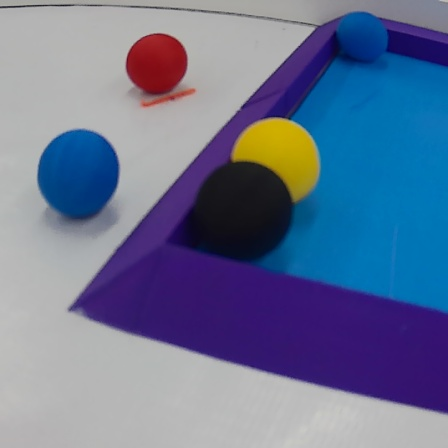black: (197, 161, 295, 261)
blue: (37, 129, 120, 222), (333, 9, 389, 63)
blue_aim: (69, 10, 448, 419)
red: (120, 33, 194, 96)
yellow: (231, 114, 324, 209)
